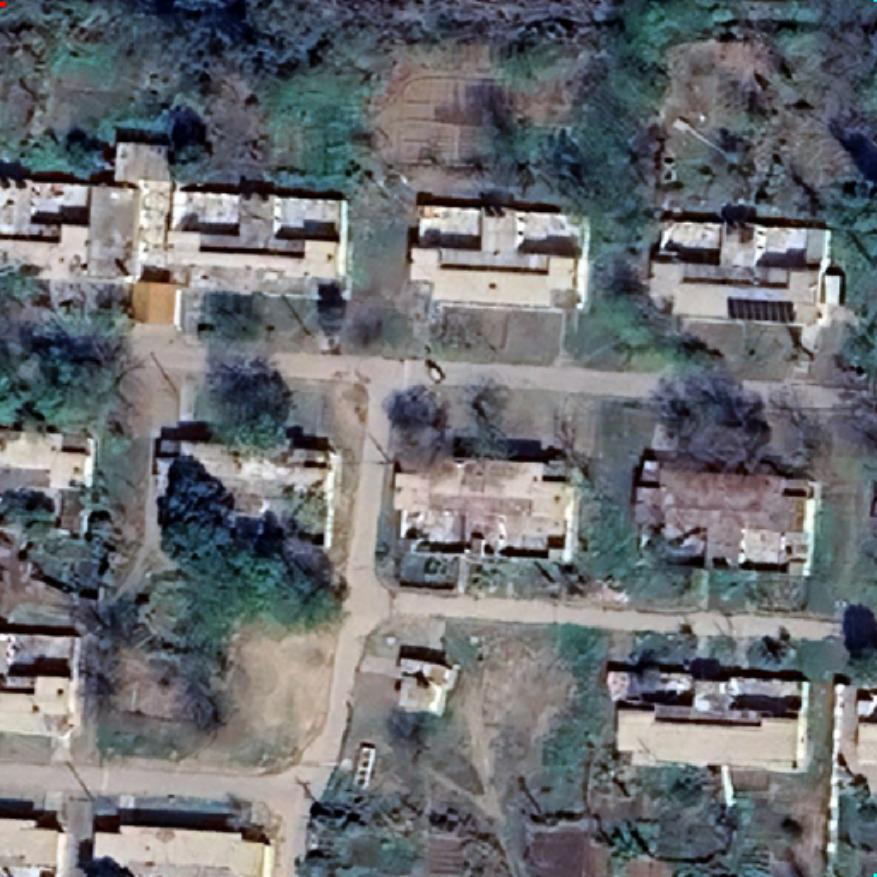Solarpanel: (721, 292, 801, 326)
